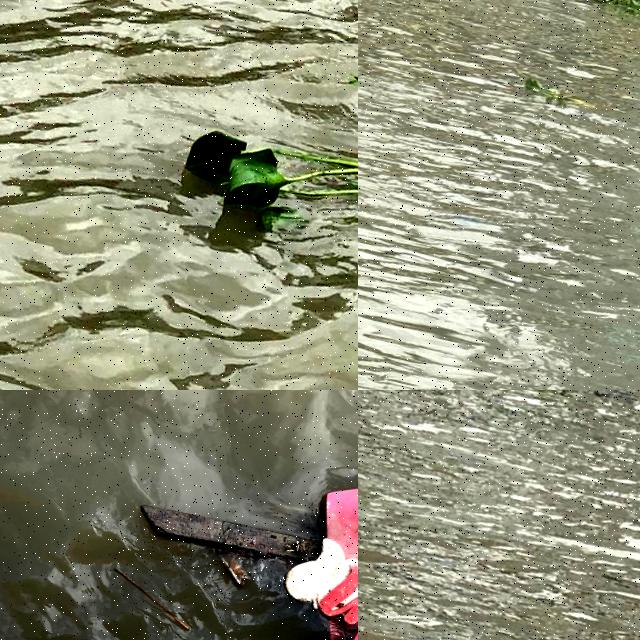water-hyacinth: (181, 1, 359, 277), (522, 74, 594, 113)
